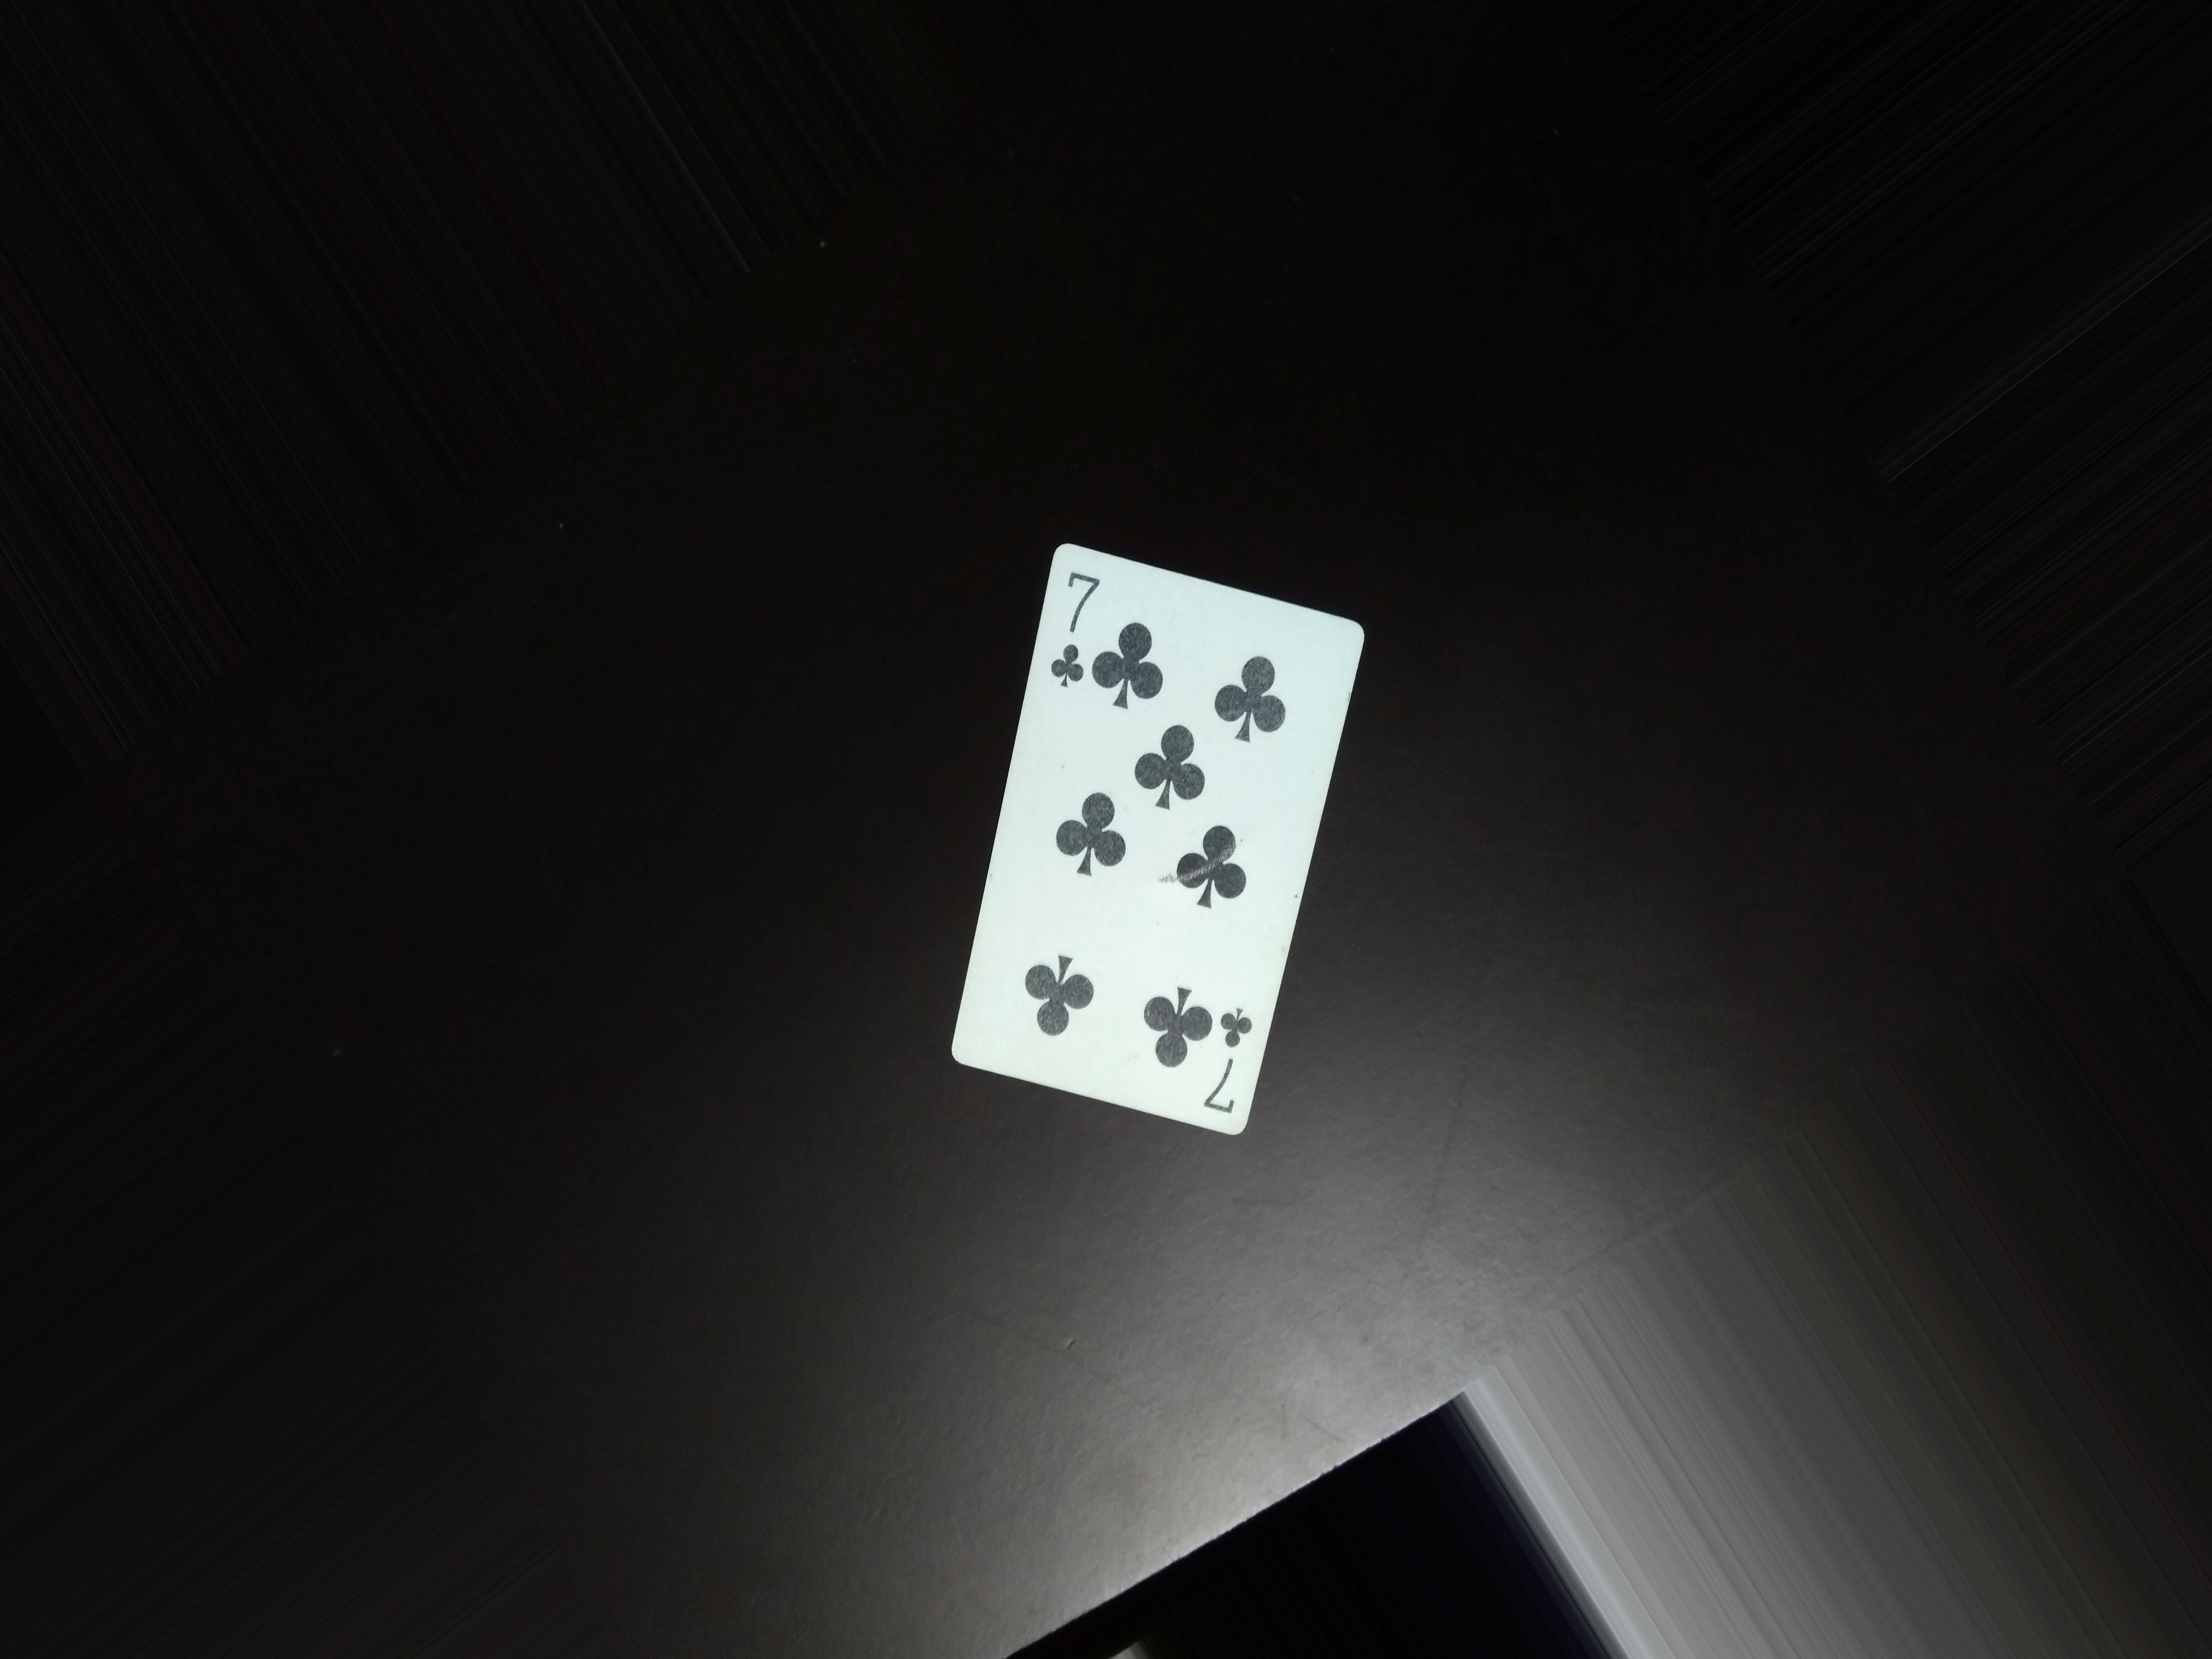7C: (1054, 559, 1097, 709)
